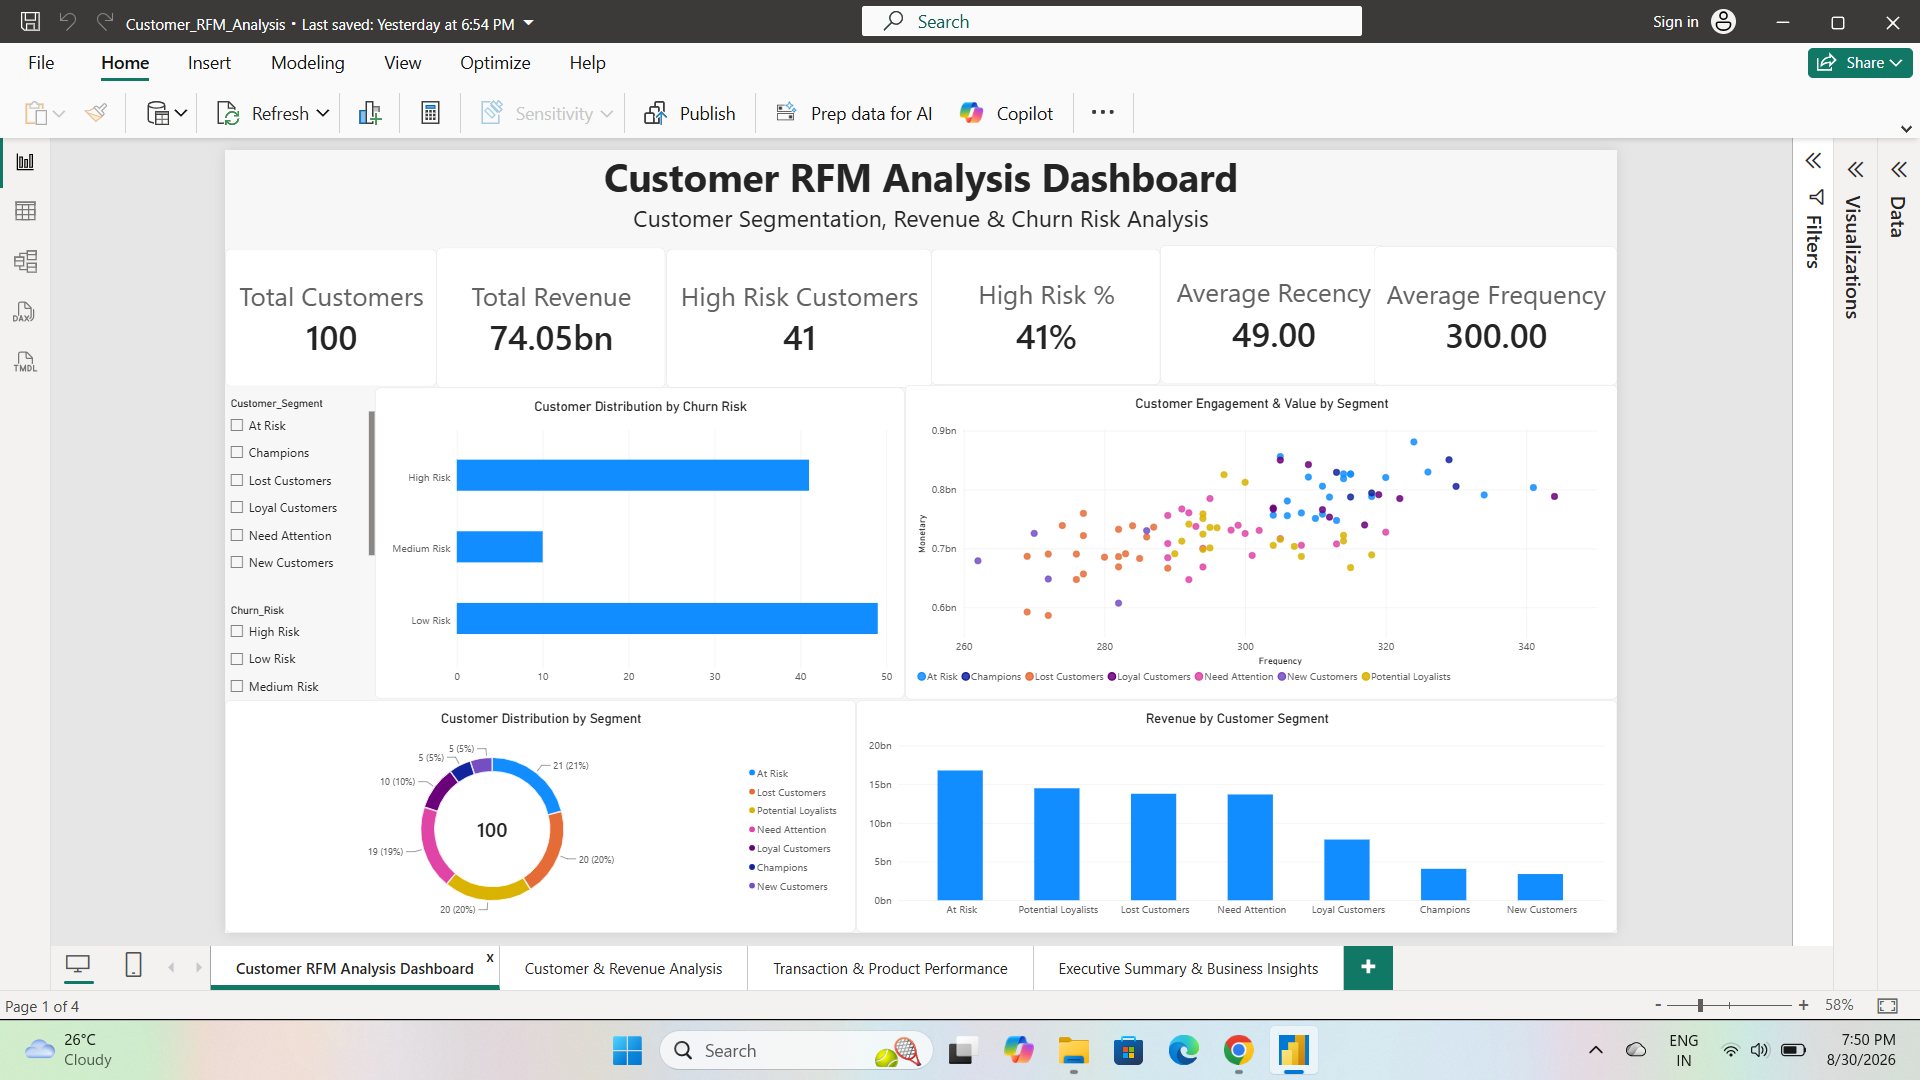

This screenshot's page, from the dashboard's own definition file:
{"tool":"powerbi","page":{"name":"Customer RFM Analysis Dashboard","canvas":[1920,1080],"ordinal":0},"visuals":[{"type":"cardVisual","fields":{"Data":["customer_rfm_analysis customer_segments.Total Customers"]},"box":[0,136,292,190],"z":0},{"type":"cardVisual","fields":{"Data":["customer_rfm_analysis customer_segments.Total Revenue"]},"box":[292,134,316,194],"z":1000},{"type":"cardVisual","fields":{"Data":["customer_rfm_analysis customer_segments.High Risk Customers"]},"box":[608,136,366,192],"z":2000},{"type":"cardVisual","fields":{"Data":["customer_rfm_analysis customer_segments.High Risk %"]},"box":[974,136,316,188],"z":3000},{"type":"cardVisual","fields":{"Data":["customer_rfm_analysis customer_segments.Average Recency"]},"box":[1289.8,131.8,312,191.2],"z":4000},{"type":"cardVisual","fields":{"Data":["customer_rfm_analysis customer_segments.Average Frequency"]},"box":[1584,132,336,192],"z":5000},{"type":"donutChart","title":"Customer Distribution by Segment","fields":{"Category":["customer_rfm_analysis customer_segments.Customer_Segment"],"Y":["CountNonNull(customer_rfm_analysis customer_segments.Customer_ID)"]},"box":[0,758.2,870.7,321],"z":6000},{"type":"barChart","title":"Customer Distribution by Churn Risk","fields":{"Y":["CountNonNull(customer_rfm_analysis customer_segments.Customer_ID)"],"Category":["Table.Churn_Risk"]},"box":[206.6,328.4,730.5,429.8],"z":7000},{"type":"clusteredColumnChart","title":"Revenue by Customer Segment","fields":{"Category":["customer_rfm_analysis customer_segments.Customer_Segment"],"Y":["Sum(customer_rfm_analysis customer_segments.Monetary)"]},"box":[870.7,758.2,1049.7,321],"z":8000},{"type":"scatterChart","title":"Customer Engagement & Value by Segment","fields":{"X":["customer_rfm_analysis customer_segments.Frequency"],"Y":["customer_rfm_analysis customer_segments.Monetary"],"Series":["customer_rfm_analysis customer_segments.Customer_Segment"]},"box":[937.1,324.7,983.2,433.5],"z":9000},{"type":"textbox","box":[0,0,1920.4,136.5],"z":10000},{"type":"slicer","fields":{"Values":["customer_rfm_analysis customer_segments.Customer_Segment"]},"box":[0,341.3,206.6,249],"z":11000},{"type":"slicer","fields":{"Values":["customer_rfm_analysis customer_segments.Churn_Risk"]},"box":[0,625.4,206.6,145.7],"z":12000}]}

Visuals, with their boxes on the page's 1920x1080 design canvas (x1, y1, x2, y2). These are canvas units, not pixel positions in the 1920x1080 screenshot, which may show the page scaled, cropped or inside an application window:
cardVisual - customer_rfm_analysis customer_segments.Total Customers: (0, 136, 292, 326)
cardVisual - customer_rfm_analysis customer_segments.Total Revenue: (292, 134, 608, 328)
cardVisual - customer_rfm_analysis customer_segments.High Risk Customers: (608, 136, 974, 328)
cardVisual - customer_rfm_analysis customer_segments.High Risk %: (974, 136, 1290, 324)
cardVisual - customer_rfm_analysis customer_segments.Average Recency: (1290, 132, 1602, 323)
cardVisual - customer_rfm_analysis customer_segments.Average Frequency: (1584, 132, 1920, 324)
"Customer Distribution by Segment" donutChart: (0, 758, 871, 1079)
"Customer Distribution by Churn Risk" barChart: (207, 328, 937, 758)
"Revenue by Customer Segment" clusteredColumnChart: (871, 758, 1920, 1079)
"Customer Engagement & Value by Segment" scatterChart: (937, 325, 1920, 758)
textbox: (0, 0, 1920, 136)
slicer - customer_rfm_analysis customer_segments.Customer_Segment: (0, 341, 207, 590)
slicer - customer_rfm_analysis customer_segments.Churn_Risk: (0, 625, 207, 771)
